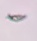microplastic: (5, 12, 27, 23)
